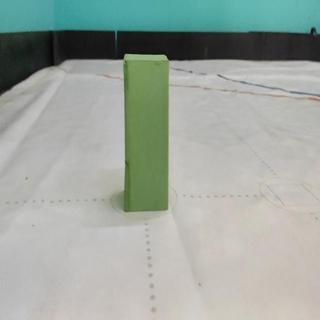greenbox: (122, 51, 169, 213)
